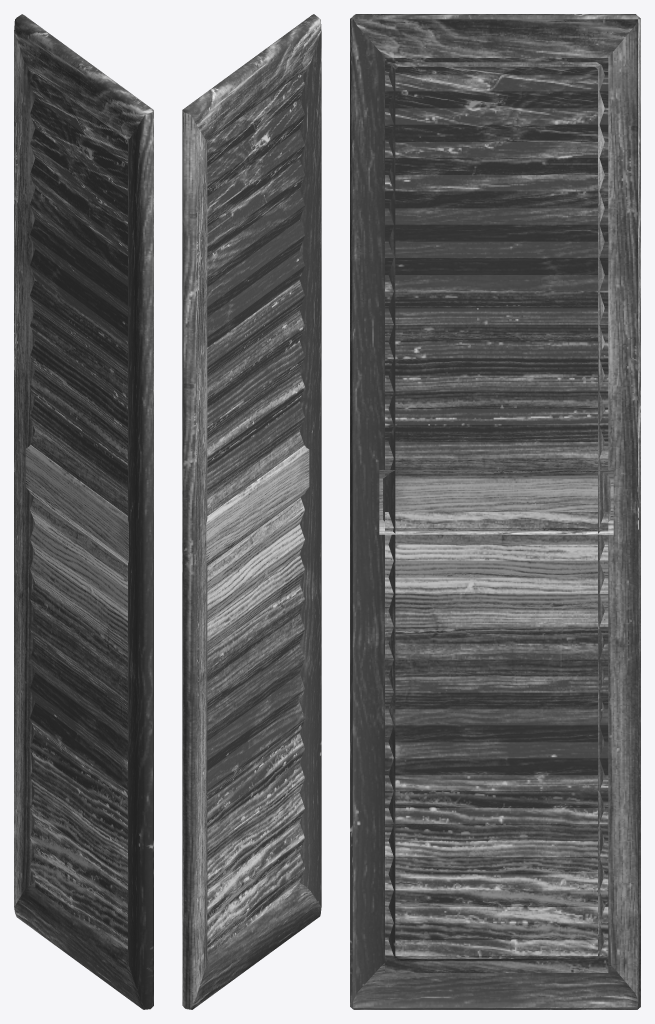
The model's file is SM_Shutter_A1.fbx.
3 views of the same model, side by side, from view 1: azimuth 30°, elevation 25°; view 2: azimuth 150°, elevation 25°; view 3: azimuth 270°, elevation 25° (orthographic). The views are drawn at different scales.
Visible parts, largest first — view 1: SM_Shutter_A1; view 2: SM_Shutter_A1; view 3: SM_Shutter_A1.
Boxes of the visible parts, x1,y1,x2,y2 form: SM_Shutter_A1: (14,14,153,1009); SM_Shutter_A1: (182,14,321,1009); SM_Shutter_A1: (350,14,640,1009).
Bounding box in the file's own units: 2 × 39.16 × 148.
1 material, 1 textured.
